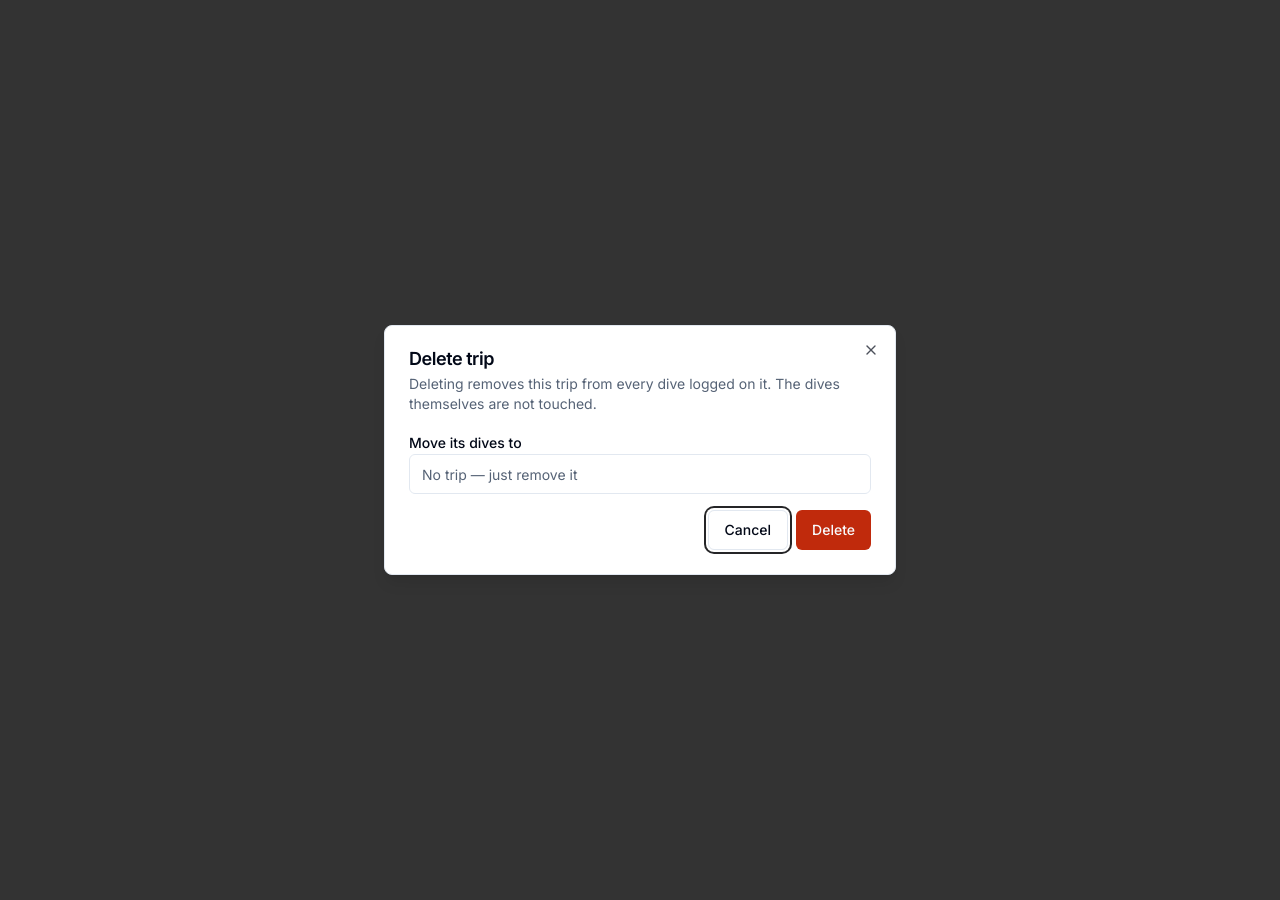
DeleteWithReassignDialog › keeps the target out of its own replacement list
Click the dropdown at [640, 474], box [409,454,871,494]
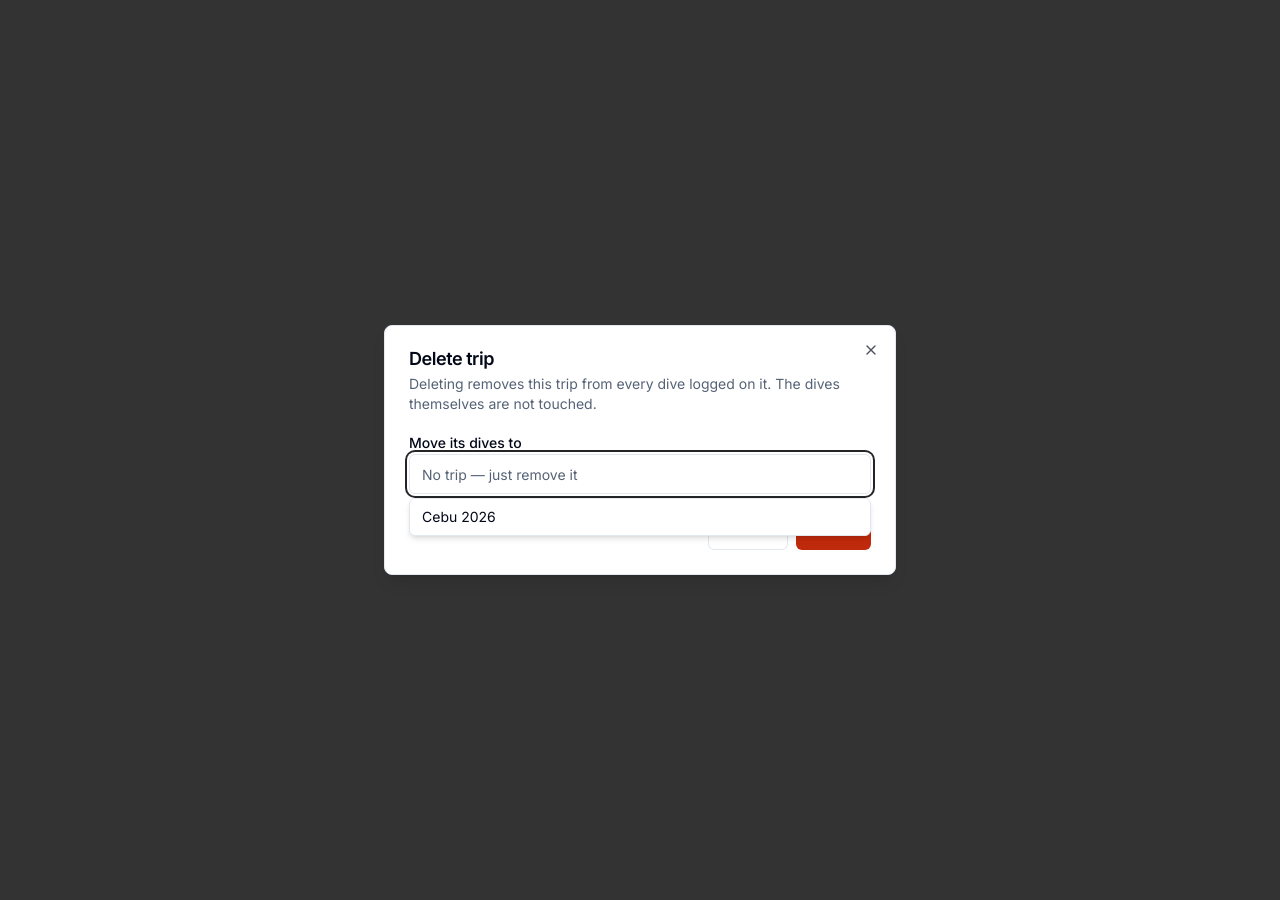
Expected: the option "Cebu 2026" is shown, [410,499,870,535]
